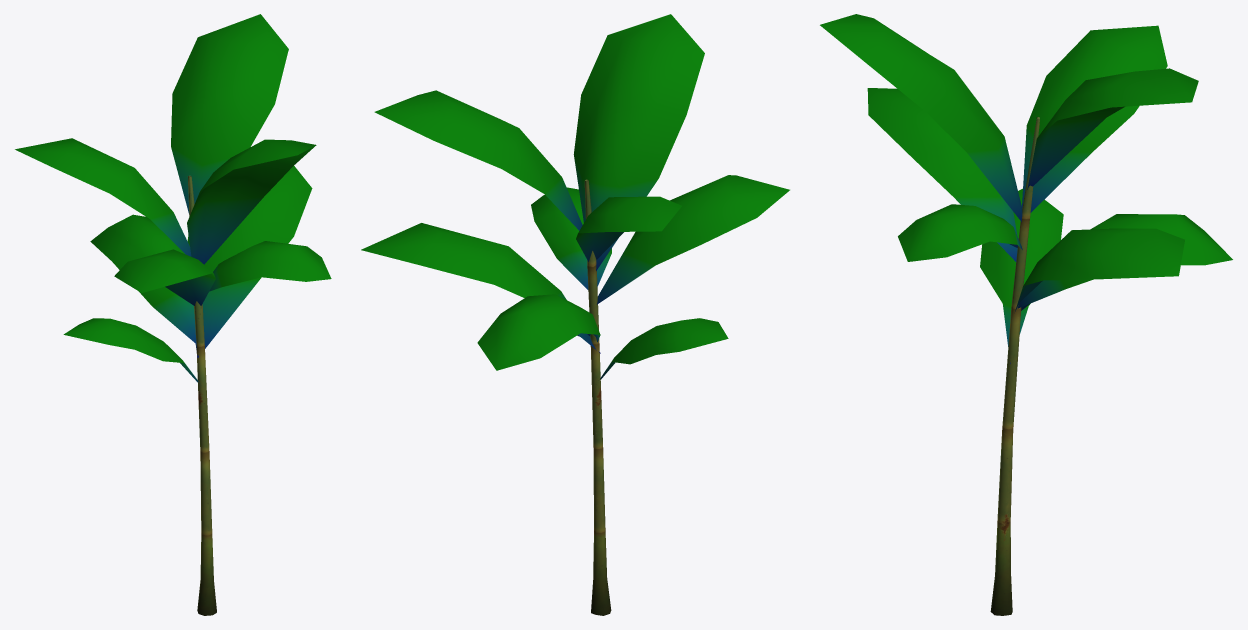
File: Thin_Palm_B.FBX
3 views of the same model, side by side, from view 1: azimuth 30°, elevation 25°; view 2: azimuth 150°, elevation 25°; view 3: azimuth 270°, elevation 25° (orthographic). The views are drawn at different scales.
Parts seen in each view (by area): view 1: Thin_Palm_B; view 2: Thin_Palm_B; view 3: Thin_Palm_B.
Boxes of the visible parts, x1,y1,x2,y2 form: Thin_Palm_B: [15, 14, 331, 615]; Thin_Palm_B: [361, 14, 789, 615]; Thin_Palm_B: [820, 14, 1232, 615].
Size of the model in its own units: 484 by 824 by 521.
